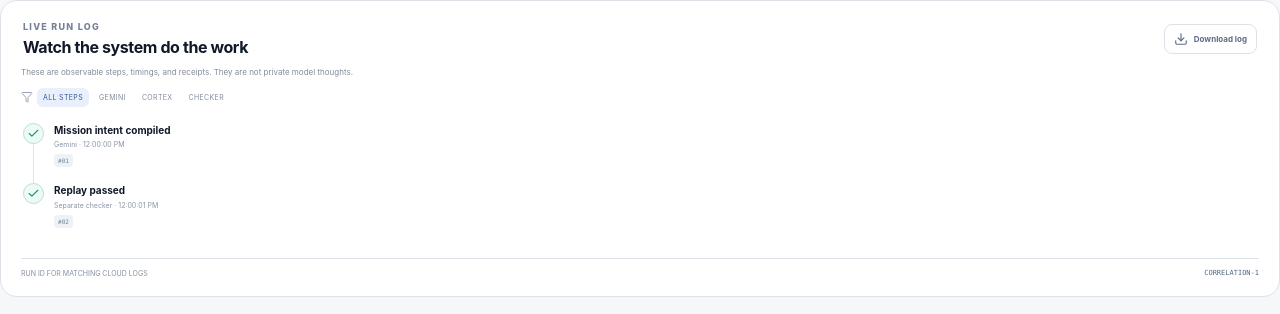
it: Evidence surfaces › filters observable events without exposing hidden reasoning
The width and height of the screenshot is (1280, 314).
Expected: the text "Mission intent compiled" is shown, [54,124,170,136]
Expected: the text "Replay passed" is shown, [54,184,125,196]
Click the button "Checker" at (206, 97), box [182,88,230,107]
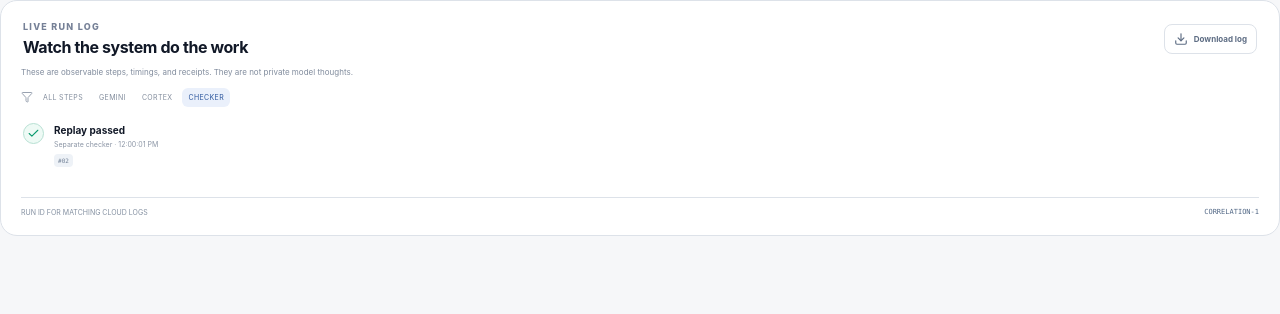
Expected: the text "Replay passed" is shown, [54,124,125,136]
Expected: the text "Mission intent compiled" is gone
